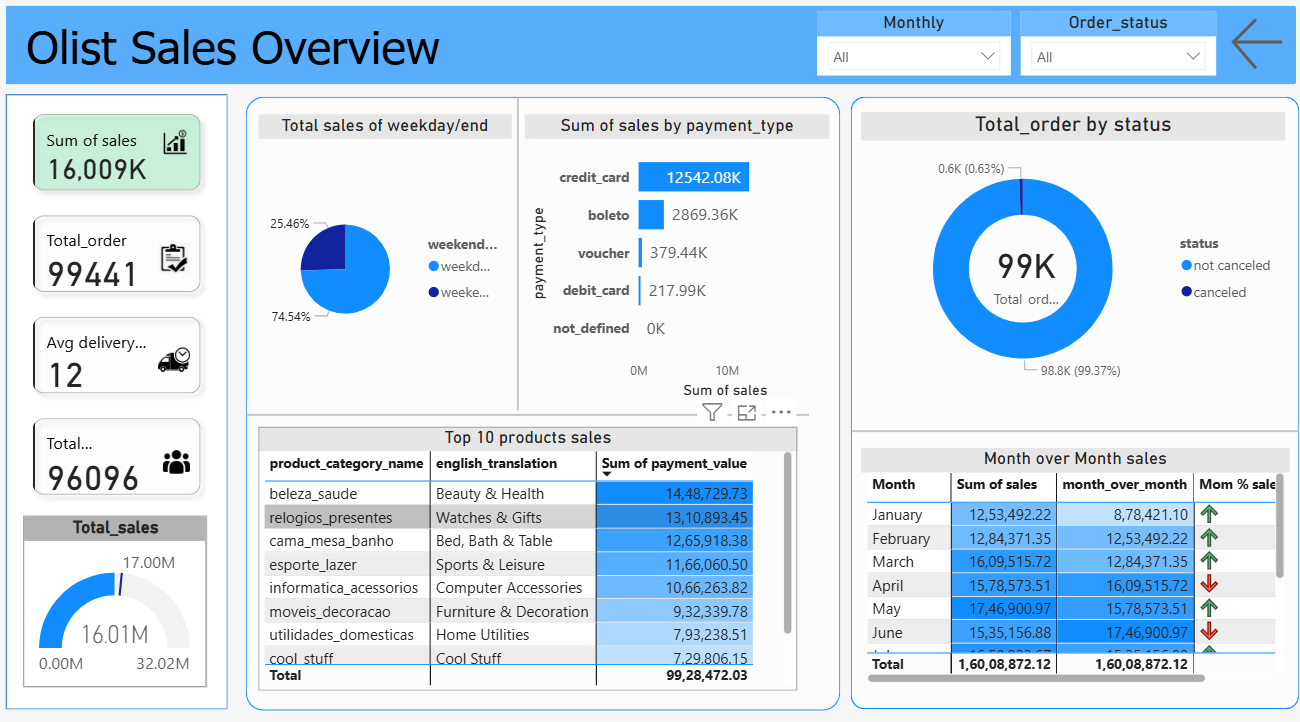

Layout of this report page (visuals, bound fields, positions):
{"tool":"powerbi","page":{"name":"Sales Overview","canvas":[1280,720],"ordinal":1},"visuals":[{"type":"shape","box":[8.7,99.1,217.2,602],"z":0},{"type":"shape","box":[835.2,102,438.7,599.1],"z":1000},{"type":"shape","box":[8.7,11.7,1262.2,77.3],"z":2000},{"type":"shape","box":[243.4,102,581.6,600.5],"z":3000},{"type":"shape","box":[243.4,400.8,551,23.3],"z":4000},{"type":"shape","box":[497,102,26.2,307.5],"z":5000},{"type":"barChart","fields":{"Category":["olist_order_payments_dataset.payment_type"],"Y":["Sum(olist_order_payments_dataset.payment_value)"]},"box":[516,118.1,298.8,282.8],"z":6000},{"type":"tableEx","title":"Top 10 products sales","fields":{"Values":["olist_products_dataset.product_category_name","translated products.english_translation","Sum(olist_order_payments_dataset.payment_value)"]},"box":[255.1,424.1,527.6,258],"z":7000},{"type":"tableEx","title":"Month over Month sales","fields":{"Values":["olist_orders_dataset.order_purchase_date.Variation.Date Hierarchy.Month","Sum(olist_order_payments_dataset.payment_value)","calculations.month_over_month","calculations.divide"]},"box":[845.4,444.6,419.8,234.7],"z":8000},{"type":"pieChart","title":"Total sales of weekday/end ","fields":{"Category":["olist_orders_dataset.weekend/day"],"Y":["Sum(olist_order_payments_dataset.payment_value)"]},"box":[255.1,118.1,247.8,284.2],"z":9000},{"type":"shape","box":[835.2,409.6,438.7,37.9],"z":10000},{"type":"group","id":"g1","title":"Group 1","box":[845.4,116.6,415.4,284.2],"z":11000},{"type":"donutChart","fields":{"Category":["olist_orders_dataset.status"],"Y":["calculations.Total_order"]},"box":[845.4,116.6,415.4,284.2],"z":11000,"group":"g1"},{"type":"cardVisual","fields":{"Data":["Sum(olist_order_payments_dataset.payment_value)","calculations.Total_order","Avg(olist_orders_dataset.Delivery_days)","Count(olist_customers_dataset.customer_unique_id)"]},"box":[18.9,102,198.2,408.1],"z":12000},{"type":"gauge","fields":{"Y":["calculations.Total_sales"]},"box":[26.2,511.6,179.3,167.6],"z":13000},{"type":"slicer","title":"Monthly","fields":{"Values":["olist_orders_dataset.order_purchase_date.Variation.Date Hierarchy.Month"]},"box":[801.7,18.9,189.5,62.7],"z":14000},{"type":"slicer","title":"Order_status","fields":{"Values":["olist_orders_dataset.status"]},"box":[1001.3,18.9,190.9,62.7],"z":15000},{"type":"actionButton","box":[1202.5,18.9,62.7,62.7],"z":16000},{"type":"card","fields":{"Values":["calculations.Total_order"]},"box":[970.1,236.8,74.6,73.5],"z":17001,"group":"g1"}]}

Visuals, with their boxes in screenshot pixels (x1, y1, x2, y2), scaled from the page's 1280x720 canvas onto the 1300x722 screenshot:
shape: [9,99,229,703]
shape: [848,102,1294,703]
shape: [9,12,1291,89]
shape: [247,102,838,704]
shape: [247,402,807,425]
shape: [505,102,531,411]
barChart - olist_order_payments_dataset.payment_type x Sum(olist_order_payments_dataset.payment_value): [524,118,828,402]
"Top 10 products sales" tableEx: [259,425,795,684]
"Month over Month sales" tableEx: [859,446,1285,681]
"Total sales of weekday/end " pieChart: [259,118,511,403]
shape: [848,411,1294,449]
"Group 1" group: [859,117,1280,402]
donutChart - olist_orders_dataset.status x calculations.Total_order: [859,117,1280,402]
cardVisual - Sum(olist_order_payments_dataset.payment_value) x calculations.Total_order: [19,102,220,512]
gauge - calculations.Total_sales: [27,513,209,681]
"Monthly" slicer: [814,19,1007,82]
"Order_status" slicer: [1017,19,1211,82]
actionButton: [1221,19,1285,82]
card - calculations.Total_order: [985,237,1061,311]
